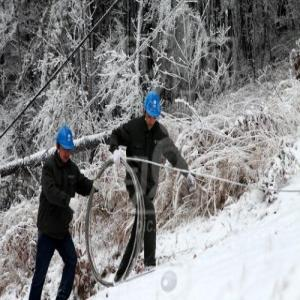blue: (56, 125, 75, 163), (143, 88, 161, 128)
